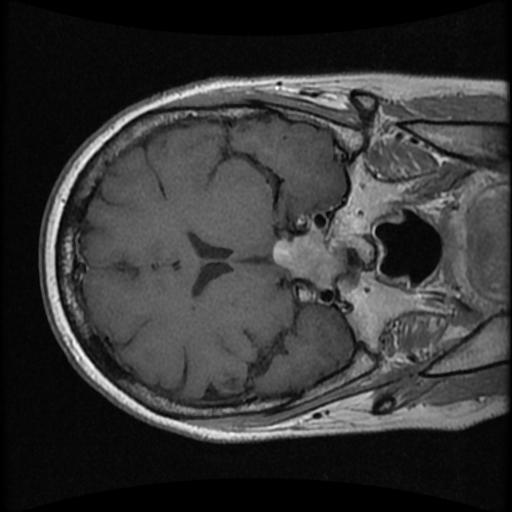pituitary tumour: (272, 226, 343, 289)
